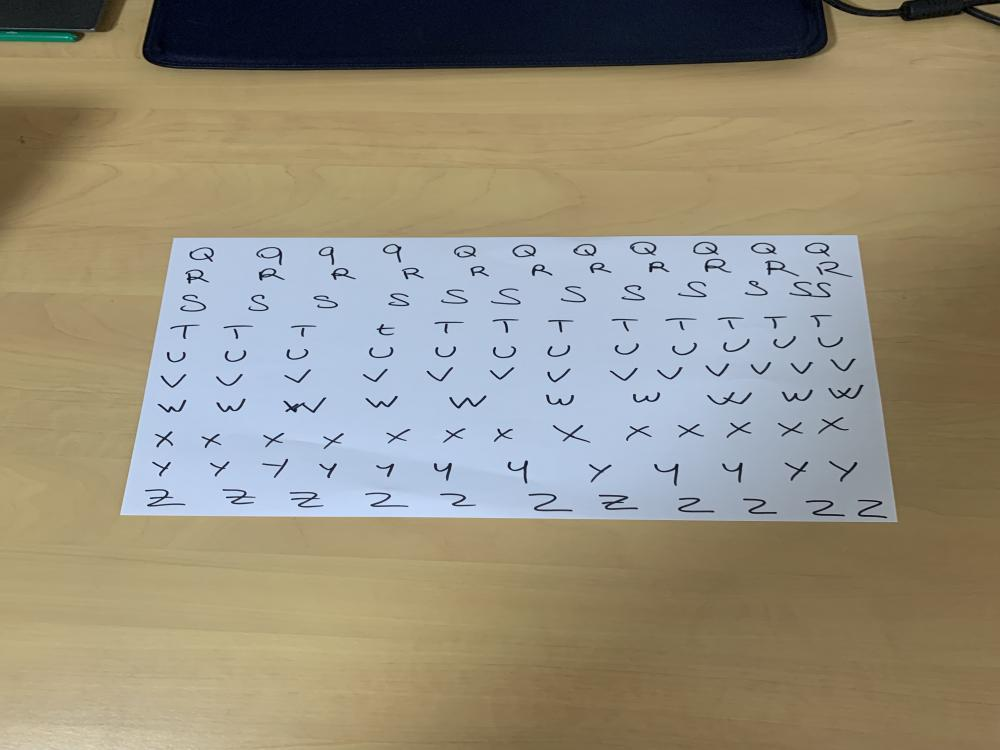Q: (252, 245, 287, 267), (378, 242, 406, 266), (188, 245, 221, 265), (746, 240, 781, 256), (629, 240, 660, 258), (690, 240, 721, 258), (572, 241, 602, 259), (803, 242, 836, 258), (452, 242, 480, 260), (317, 243, 338, 267), (511, 242, 540, 259)
R: (761, 257, 804, 280), (811, 260, 856, 278), (698, 257, 740, 275), (328, 266, 361, 286), (253, 266, 286, 283), (182, 268, 211, 285), (399, 266, 428, 282), (466, 263, 493, 280), (644, 259, 672, 275), (588, 260, 614, 276), (530, 262, 556, 278)
S: (489, 287, 524, 308), (176, 293, 208, 314), (675, 280, 711, 298), (786, 278, 814, 300), (558, 284, 588, 304), (742, 279, 770, 299), (440, 287, 471, 305), (310, 294, 342, 311), (618, 284, 648, 302), (247, 292, 271, 312), (385, 292, 413, 308), (813, 280, 835, 300)
T: (662, 316, 702, 334), (168, 322, 204, 342), (220, 322, 256, 342), (802, 311, 839, 329), (430, 318, 466, 336), (488, 316, 520, 336), (606, 317, 643, 334), (544, 318, 577, 334), (761, 313, 789, 330), (716, 316, 747, 331), (288, 324, 318, 338), (374, 322, 400, 337)
U: (721, 336, 752, 354), (812, 335, 848, 350), (219, 348, 251, 364), (670, 340, 700, 357), (430, 344, 460, 360), (488, 345, 520, 360), (612, 342, 642, 357), (366, 345, 396, 360), (162, 349, 191, 364), (546, 342, 573, 358), (768, 336, 798, 350), (284, 347, 311, 362)
V: (698, 360, 735, 380), (420, 366, 458, 385), (280, 367, 318, 385), (606, 366, 643, 384), (213, 371, 248, 390), (824, 356, 860, 374), (742, 360, 776, 378), (156, 373, 192, 390), (652, 366, 690, 381), (786, 360, 816, 378), (360, 368, 392, 384), (488, 366, 516, 384), (543, 367, 573, 383)
W: (279, 397, 332, 415), (702, 390, 758, 406), (445, 395, 492, 410), (153, 397, 192, 415), (212, 396, 250, 414), (361, 395, 402, 411), (824, 386, 870, 400), (540, 392, 578, 407), (778, 388, 815, 403), (628, 391, 666, 404)
X: (548, 422, 595, 445), (380, 426, 420, 449), (809, 415, 851, 436), (315, 431, 354, 450), (621, 423, 658, 442), (724, 420, 757, 441), (198, 432, 230, 452), (256, 431, 291, 449), (675, 421, 706, 441), (774, 419, 806, 438), (150, 430, 181, 449), (439, 426, 468, 446), (490, 424, 517, 444)
Y: (826, 456, 859, 484), (651, 460, 684, 488), (502, 459, 536, 486), (780, 458, 816, 482), (582, 460, 617, 484), (261, 456, 294, 481), (429, 460, 457, 484), (721, 460, 746, 484), (315, 460, 342, 481), (205, 459, 233, 479), (150, 459, 177, 479), (370, 461, 398, 480)
Z: (138, 486, 190, 509), (524, 491, 576, 514), (359, 491, 420, 509), (595, 493, 646, 513), (854, 496, 893, 522), (284, 488, 328, 510), (804, 497, 848, 519), (216, 486, 262, 507), (738, 496, 782, 517), (672, 496, 716, 516), (437, 490, 483, 509)
